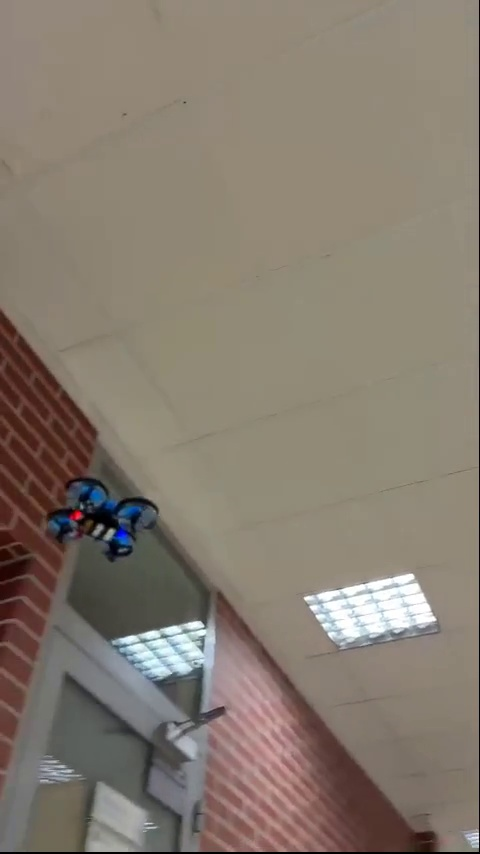drone: (44, 476, 162, 563)
